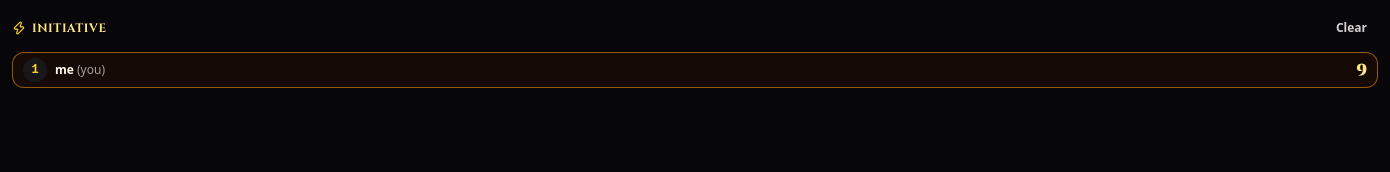
Test: InitiativeOrderPanel › asks before clearing the order for everyone
The image size is (1390, 172).
Later steps or results of the test are not shown.
Click the button "Clear" at (1351, 28), box [1325,12,1378,44]
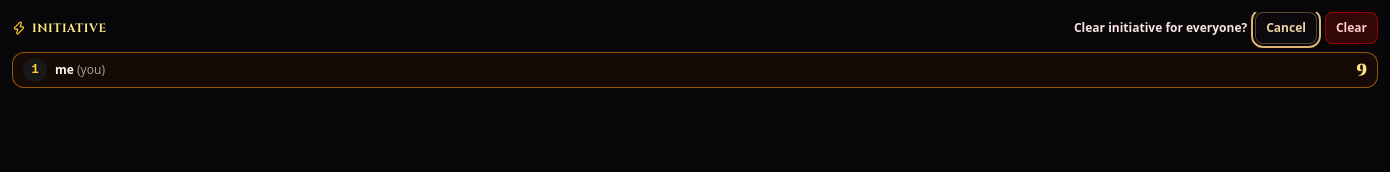
Now the text "Clear initiative for everyone?" is shown, box [1074,20,1247,36]
